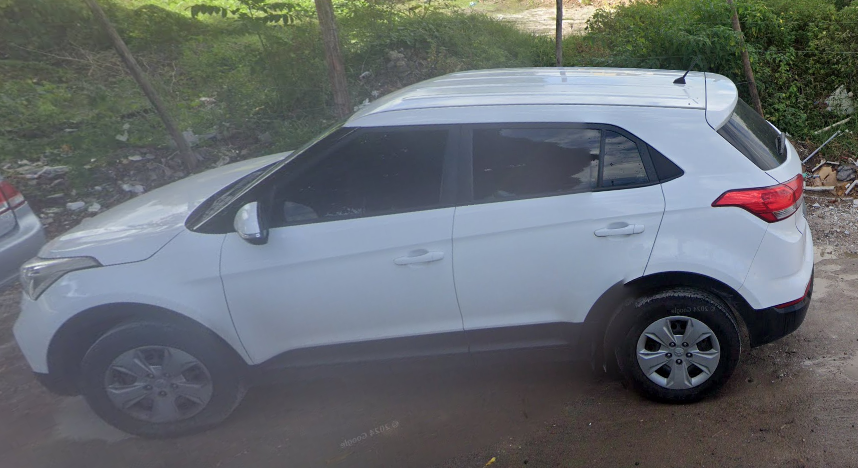car: (11, 69, 811, 434)
